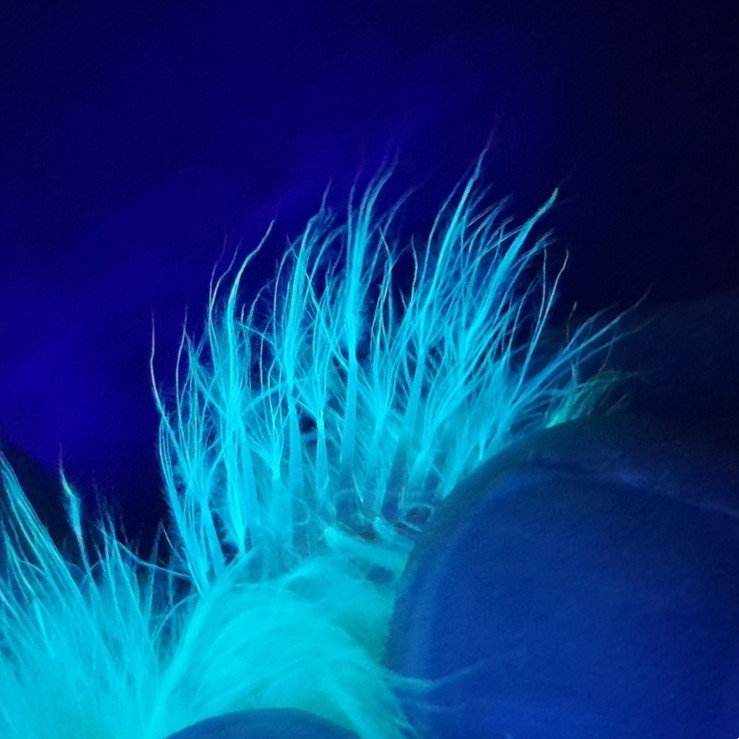male: (156, 326, 495, 590)
